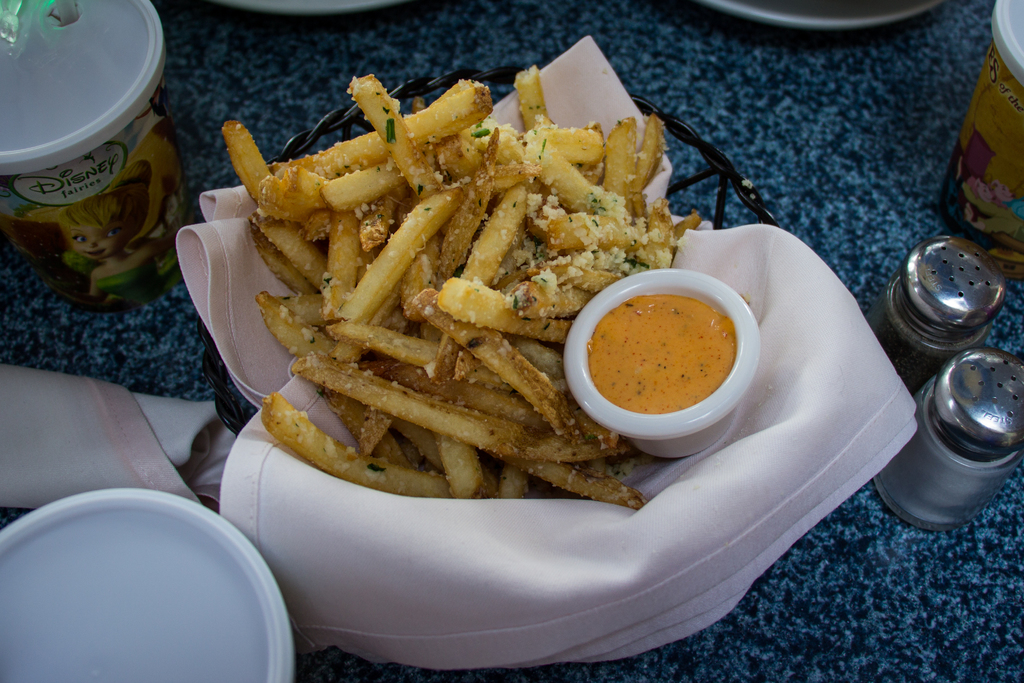French fries: (228, 64, 682, 471)
